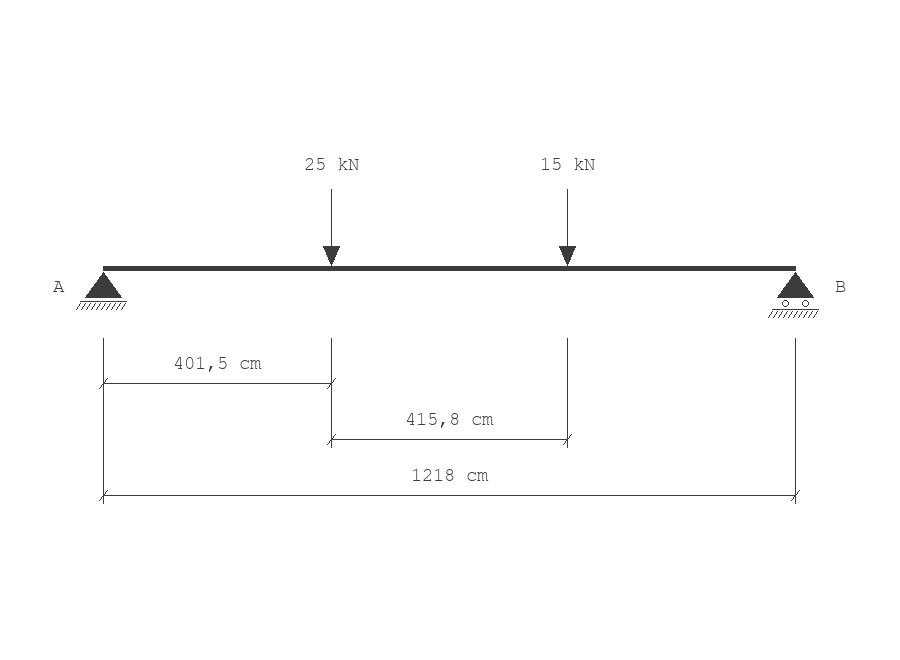pin_support: (76, 272, 127, 310)
point_load: (323, 189, 340, 266), (559, 189, 576, 266)
roller_support: (768, 272, 819, 318)
